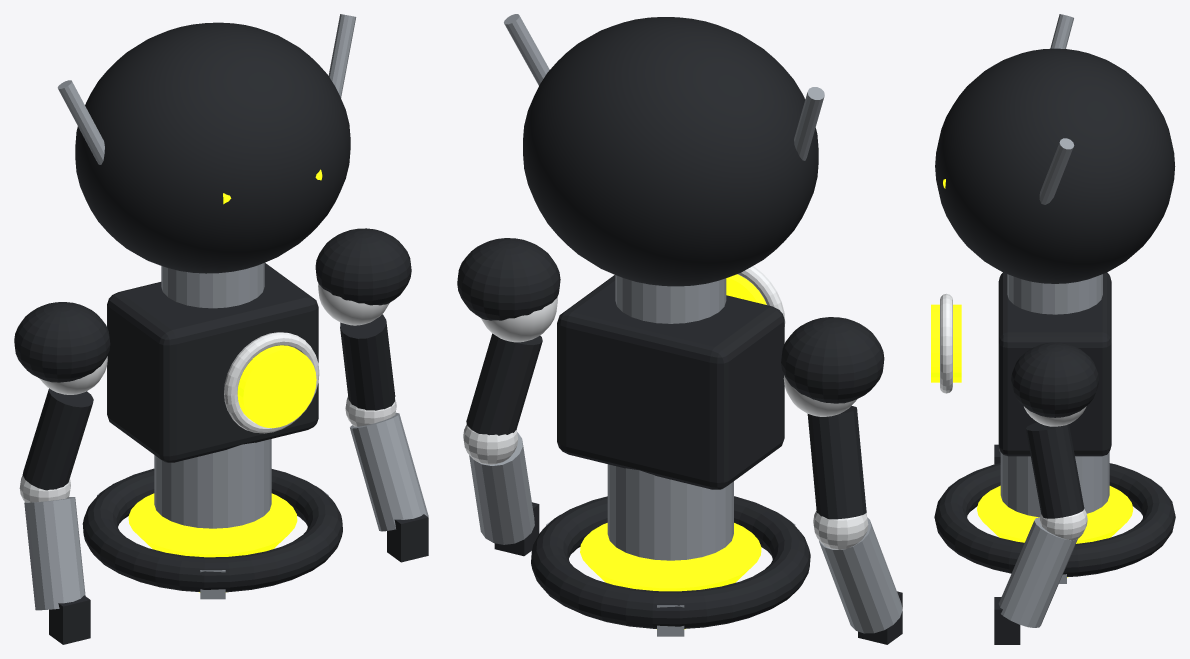
Rendered from hero-mascot.glb.
The picture shows the model from 3 angles, left to right: view 1: azimuth 30°, elevation 25°; view 2: azimuth 150°, elevation 25°; view 3: azimuth 270°, elevation 25°; orthographic projection. The views are drawn at different scales.
Visible parts, largest first — view 1: Mascot_Head_Cranium, Mascot_Torso_Armor, Mascot_Repulsor_MagneticRing, Mascot_Torso_Spine, Mascot_ShoulderGuard_L, Mascot_ShoulderGuard_R, Mascot_Repulsor_IonCone, Mascot_Forearm_R, Mascot_Forearm_L, Mascot_ArcReactor_Core, Mascot_Bicep_L, Mascot_Bicep_R (+10 smaller); view 2: Mascot_Head_Cranium, Mascot_Torso_Armor, Mascot_Repulsor_MagneticRing, Mascot_Torso_Spine, Mascot_ShoulderGuard_L, Mascot_ShoulderGuard_R, Mascot_Repulsor_IonCone, Mascot_Bicep_L, Mascot_Forearm_L, Mascot_Bicep_R, Mascot_Forearm_R, Mascot_Neck_Collar (+10 smaller); view 3: Mascot_Head_Cranium, Mascot_Torso_Armor, Mascot_Repulsor_MagneticRing, Mascot_ShoulderGuard_R, Mascot_Forearm_R, Mascot_Bicep_R, Mascot_Torso_Spine, Mascot_Repulsor_IonCone, Mascot_Neck_Collar, Mascot_ArcReactor_Core, Mascot_ArcReactor_Bezel, Mascot_Antenna_R (+4 smaller).
Boxes of the visible parts, box(x1,y1,x2,y2) form: Mascot_Head_Cranium: box(75, 22, 350, 273); Mascot_Torso_Armor: box(107, 263, 318, 462); Mascot_Repulsor_MagneticRing: box(82, 468, 342, 592); Mascot_Torso_Spine: box(154, 439, 271, 528); Mascot_ShoulderGuard_L: box(14, 302, 110, 382); Mascot_ShoulderGuard_R: box(315, 228, 411, 305); Mascot_Repulsor_IonCone: box(128, 493, 297, 592); Mascot_Forearm_R: box(350, 412, 428, 531); Mascot_Forearm_L: box(24, 497, 85, 610); Mascot_ArcReactor_Core: box(237, 345, 316, 428); Mascot_Bicep_L: box(22, 388, 93, 490); Mascot_Bicep_R: box(340, 314, 395, 410); Mascot_Head_Cranium: box(523, 17, 818, 286); Mascot_Torso_Armor: box(557, 275, 784, 489); Mascot_Repulsor_MagneticRing: box(531, 496, 810, 628); Mascot_Torso_Spine: box(607, 464, 733, 560); Mascot_ShoulderGuard_L: box(781, 317, 884, 403); Mascot_ShoulderGuard_R: box(457, 238, 560, 320); Mascot_Repulsor_IonCone: box(580, 523, 761, 629); Mascot_Bicep_L: box(807, 406, 866, 519); Mascot_Forearm_L: box(819, 517, 902, 633); Mascot_Bicep_R: box(466, 333, 542, 435); Mascot_Forearm_R: box(469, 432, 534, 544); Mascot_Neck_Collar: box(615, 275, 726, 323); Mascot_Head_Cranium: box(935, 48, 1175, 283); Mascot_Torso_Armor: box(998, 272, 1111, 456); Mascot_Repulsor_MagneticRing: box(934, 463, 1175, 576); Mascot_ShoulderGuard_R: box(1011, 342, 1098, 417); Mascot_Forearm_R: box(998, 517, 1077, 627); Mascot_Bicep_R: box(1026, 422, 1084, 518); Mascot_Torso_Spine: box(1000, 452, 1109, 517); Mascot_Repulsor_IonCone: box(977, 485, 1133, 577); Mascot_Neck_Collar: box(1007, 274, 1102, 314); Mascot_ArcReactor_Core: box(931, 304, 961, 382); Mascot_ArcReactor_Bezel: box(940, 293, 952, 393); Mascot_Antenna_R: box(1039, 138, 1074, 204).
Size of the model in its own units: 1.9 by 2.59 by 1.13.
